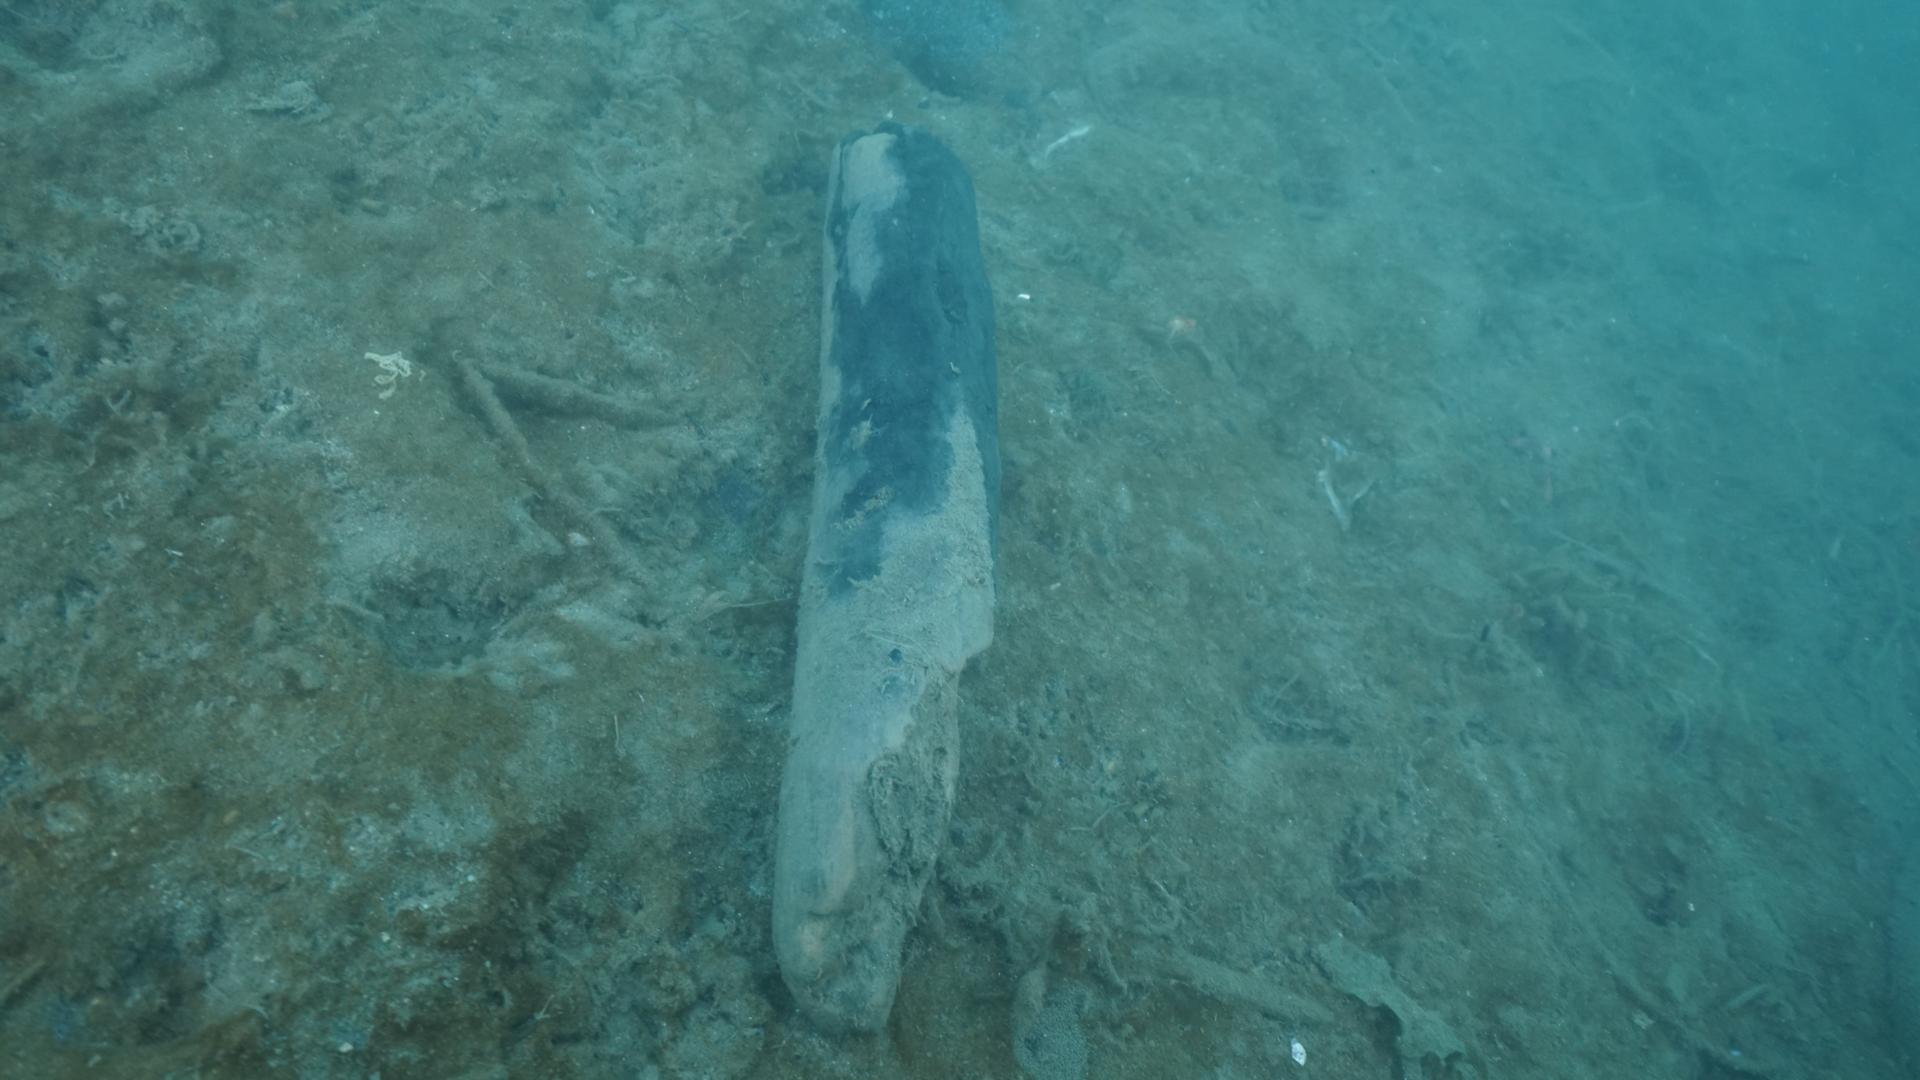wood: (765, 117, 1007, 1050)
